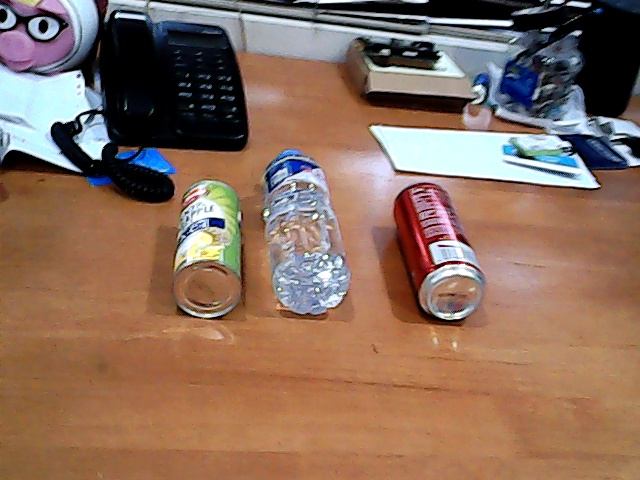Cola: (374, 169, 498, 349)
Pine Juice: (152, 165, 260, 329)
Summit Water: (251, 131, 362, 338)
